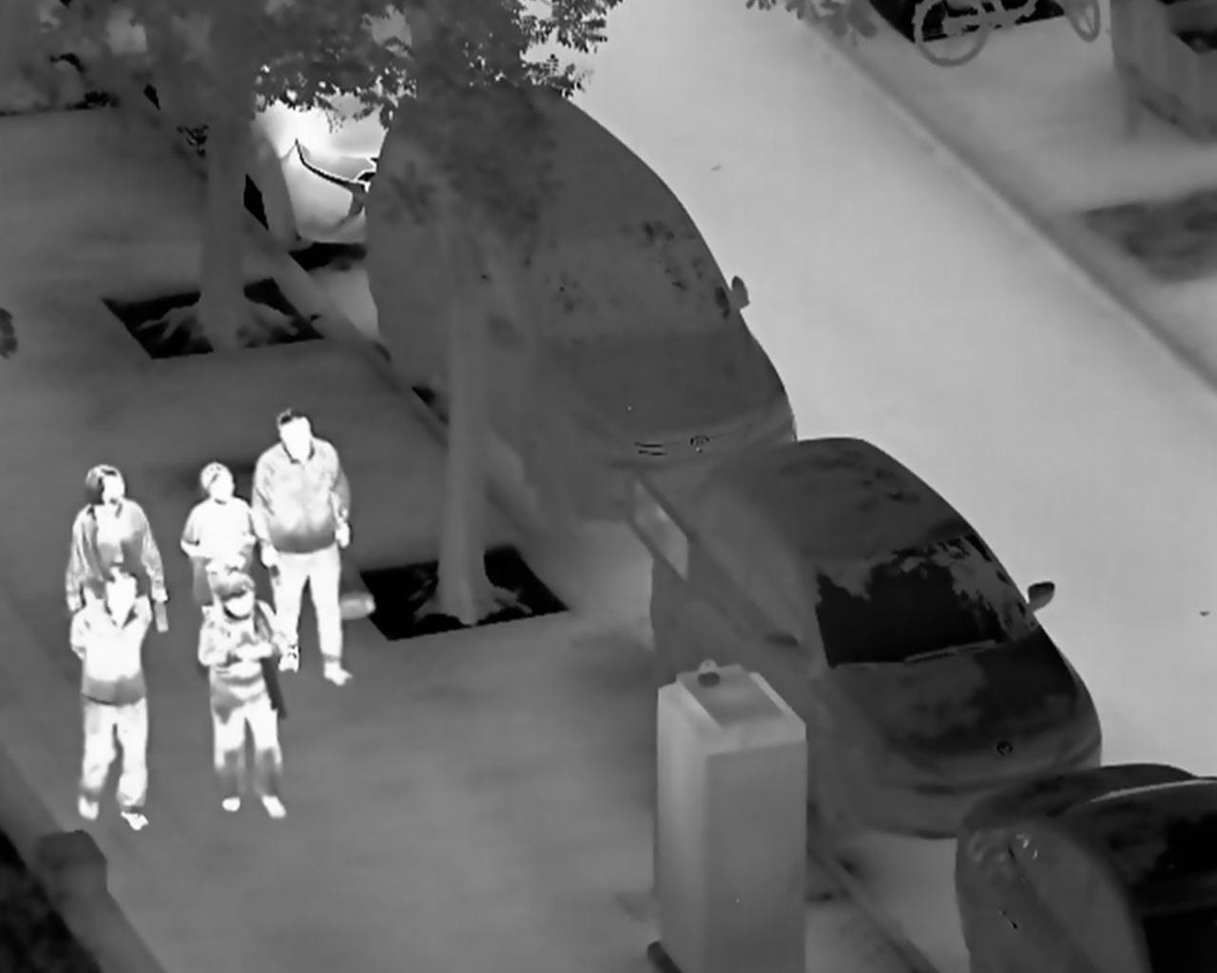person: (251, 410, 352, 689), (194, 567, 287, 822), (70, 565, 154, 832), (64, 462, 170, 639), (177, 456, 263, 657)
